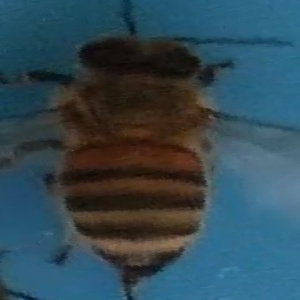bee: (15, 17, 293, 293)
